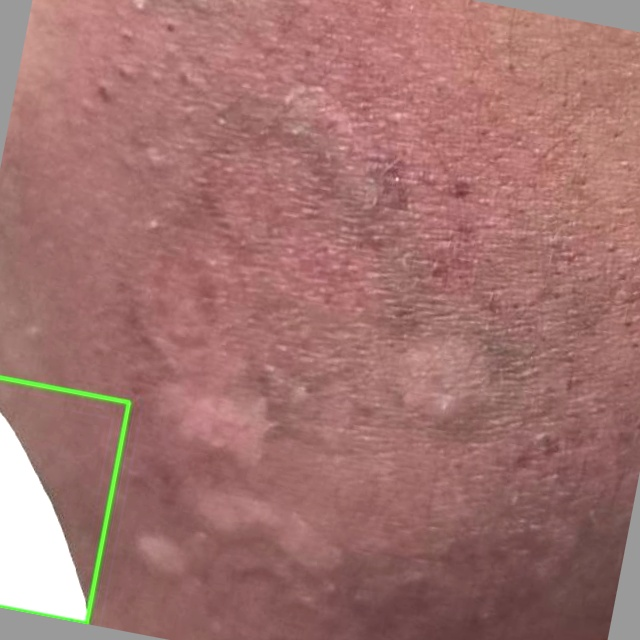Eczema: (0, 377, 128, 623)
